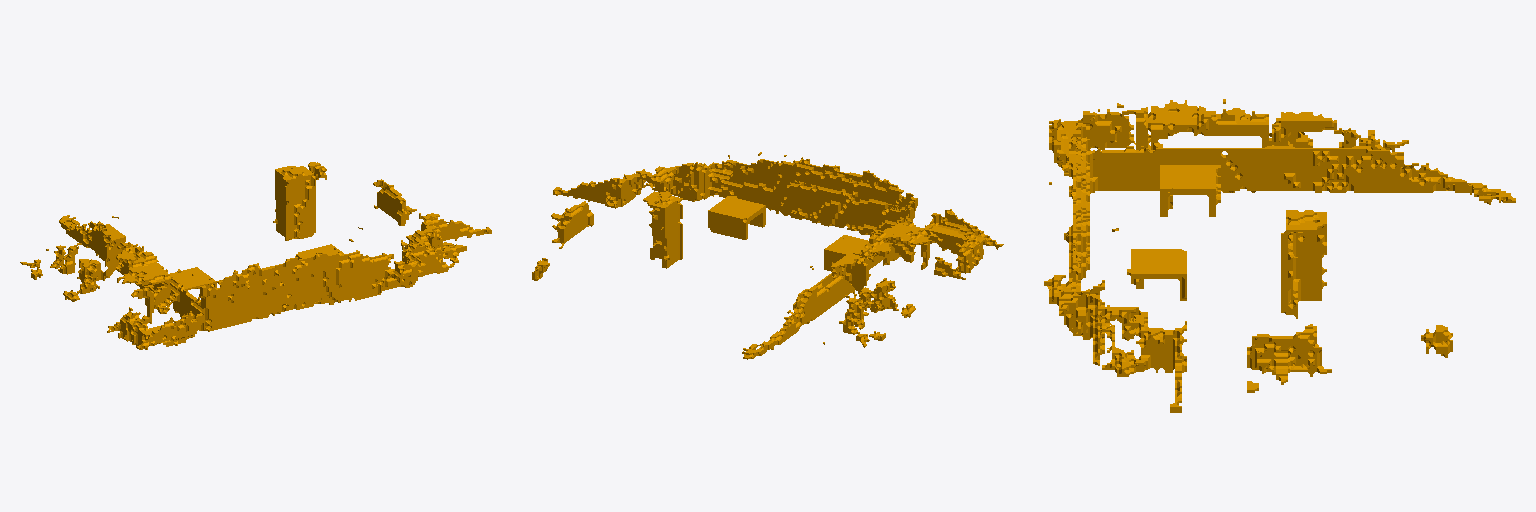
robot.urdf — map:
<robot name="map">
  <link name="map">
  
    <inertial>
      <mass value="0.350000" />
      <origin xyz="0.0 0.0 0.0"/>
      <inertia ixx="0.000469" ixy="0.000000" ixz="0.000000" iyy="0.000469" iyz="0.000000" izz="0.000197" />
    </inertial>
    
    <visual>
      <geometry>
        <mesh filename="package://tidyup_demo_launch/simulation/map.dae" />
      </geometry>
    </visual>
    <collision>
      <geometry>
        <mesh filename="package://tidyup_demo_launch/simulation/map.dae" />
      </geometry>
    </collision>
  </link>
  <gazebo>
    <static>true</static>
    <material>Gazebo/Grey</material>
  </gazebo>
</robot>

--- Render facts (derived) ---
Views: 3 orthographic renders of the robot side by side, from view 1: azimuth 30°, elevation 25°; view 2: azimuth 150°, elevation 25°; view 3: azimuth 270°, elevation 25°.
Model map with 1 links and 0 joints (none), rooted at map, posed every joint at zero.
Links seen in each view (by area): view 1: map; view 2: map; view 3: map.
Link boxes in pixels (bbox=[...]): map: bbox=[20, 162, 491, 349]; map: bbox=[532, 152, 1003, 359]; map: bbox=[1044, 99, 1515, 412].
Size in the robot's own frame: 6.67 by 4.88 by 1.07 metres.
1 mesh visuals loaded from 1 distinct referenced files (1 Collada DAE).